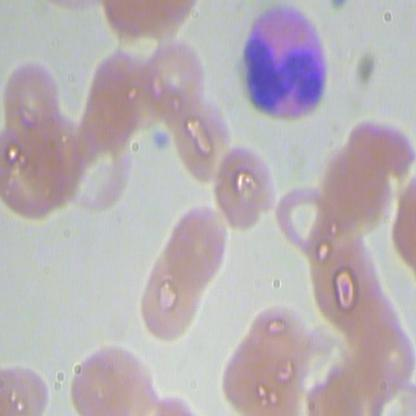Platelets: (150, 127, 174, 154)
RBC: (135, 241, 203, 347), (65, 340, 161, 415), (211, 142, 279, 233), (167, 91, 235, 182), (0, 52, 68, 143), (161, 201, 228, 292)
WBC: (230, 3, 334, 132)
